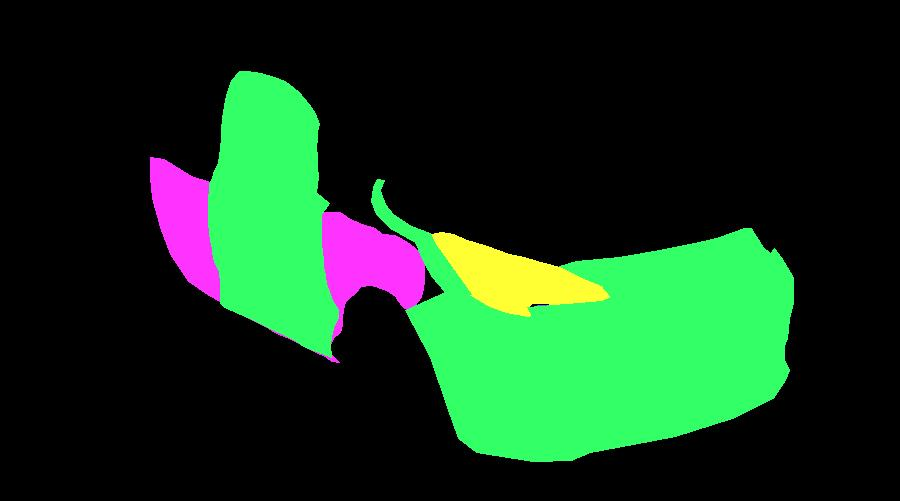Broken part: (405, 228, 793, 461), (208, 71, 338, 357), (371, 179, 471, 297), (330, 245, 340, 258)
Cracked: (426, 232, 612, 319)
Dent: (150, 157, 424, 362)
Flaking: (520, 434, 603, 445)
Paint chip: (492, 384, 530, 405), (619, 341, 633, 358), (607, 321, 613, 334)
Scratch: (460, 352, 496, 409), (537, 305, 611, 331), (430, 352, 464, 399), (470, 301, 508, 324), (584, 348, 621, 371), (233, 265, 259, 286), (496, 325, 525, 341), (548, 336, 576, 352), (209, 210, 230, 227), (494, 338, 523, 349), (570, 354, 590, 368), (578, 373, 595, 386), (455, 320, 473, 332), (214, 242, 232, 253), (466, 299, 480, 313), (318, 299, 326, 317), (160, 206, 175, 214), (287, 310, 303, 317), (461, 344, 476, 350), (291, 286, 305, 292), (431, 334, 443, 340), (216, 257, 226, 263), (278, 265, 285, 273), (293, 307, 300, 313)
